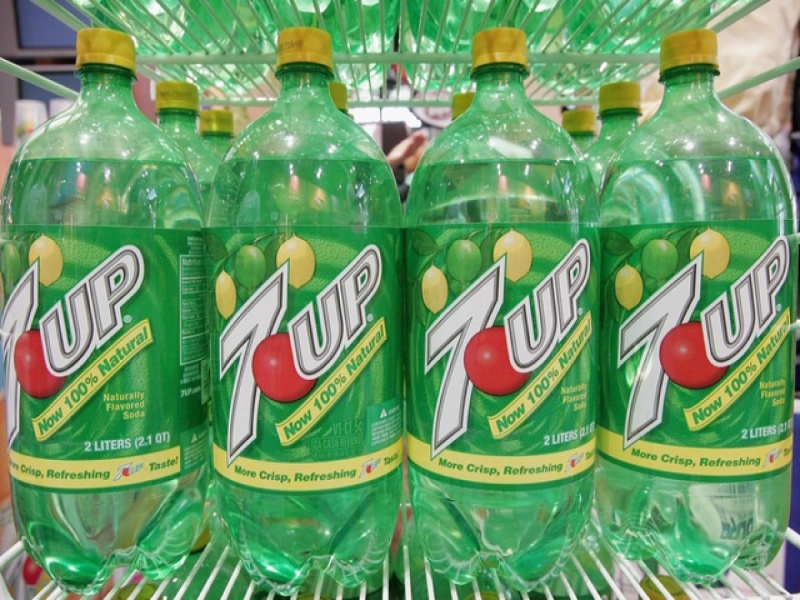Plastic bottle: (181, 16, 421, 598), (556, 16, 799, 588), (381, 13, 616, 579), (3, 23, 222, 597)
